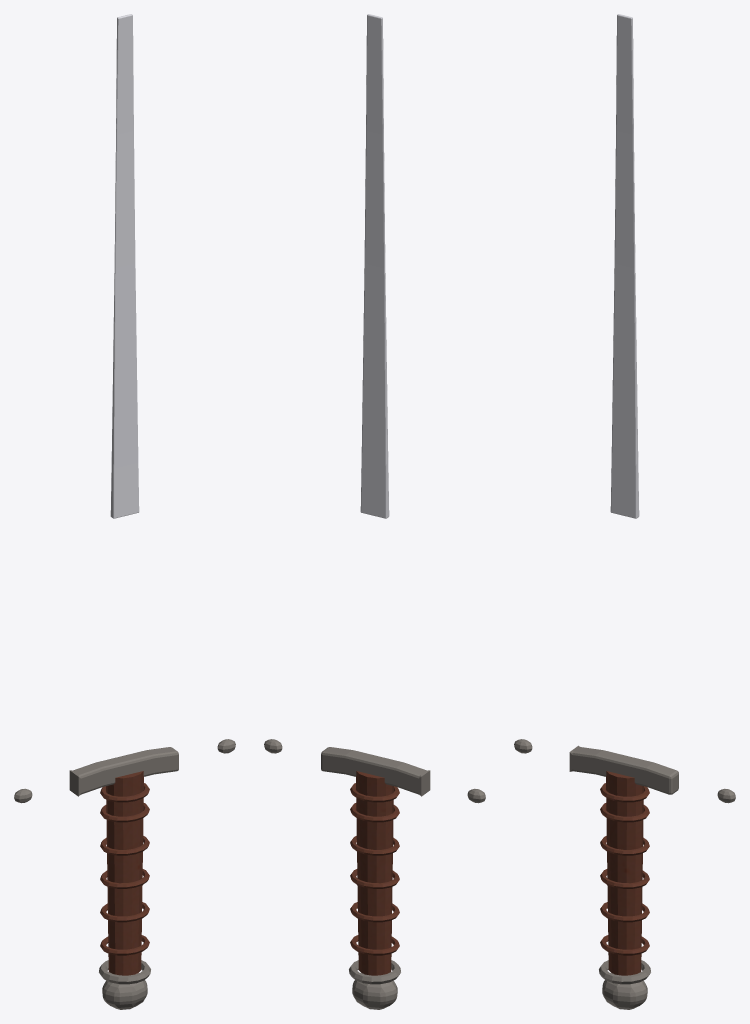
Rendered from longsword.fbx.
3 views of the same model, side by side, from view 1: azimuth 30°, elevation 25°; view 2: azimuth 150°, elevation 25°; view 3: azimuth 330°, elevation 25° (orthographic).
Visible parts, largest first — view 1: longsword; view 2: longsword; view 3: longsword.
Boxes of the visible parts, bbox=[...] form: longsword: bbox=[14, 14, 235, 1009]; longsword: bbox=[264, 14, 485, 1009]; longsword: bbox=[514, 14, 735, 1009].
Size of the model in its own units: 0.1744 by 0.7451 by 0.036.
Materials: 3 (1 with a texture image).
